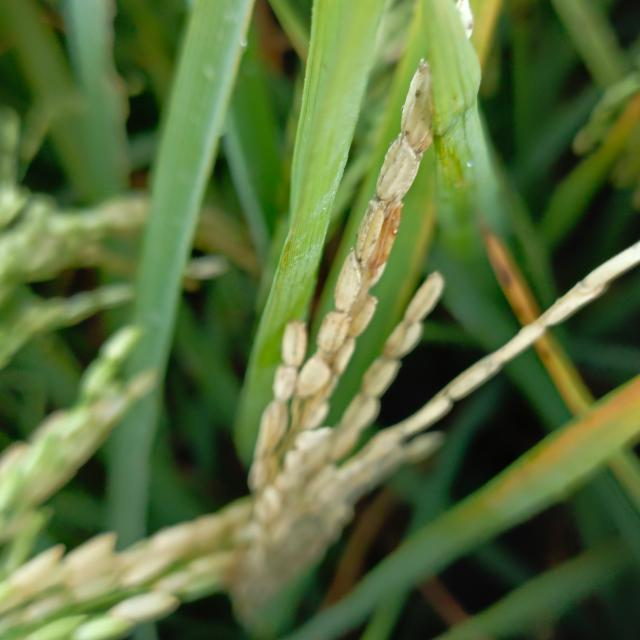Brown spot: (425, 370, 640, 536)
insects: (476, 219, 570, 363)
